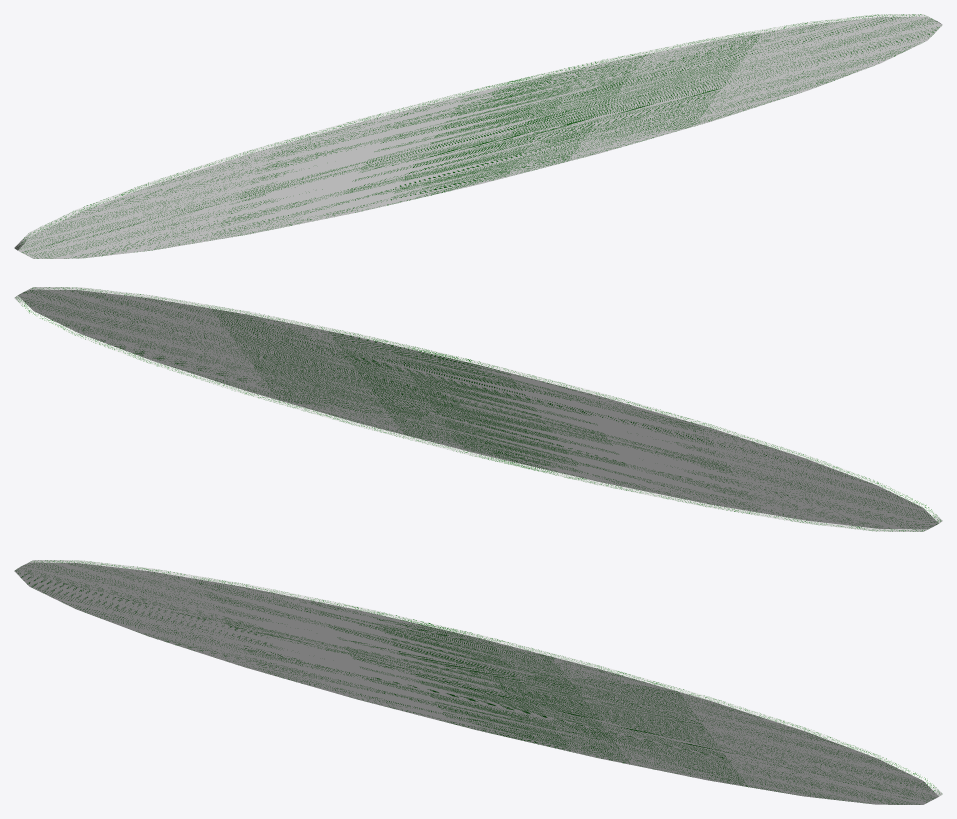
The model's file is original-23.obj.
3 views of the same model, one above another, from view 1: azimuth 30°, elevation 25°; view 2: azimuth 150°, elevation 25°; view 3: azimuth 330°, elevation 25° (orthographic).
Parts seen in each view (by area): view 1: mesh33/mesh33-geometry/material_3/component_1#mesh33-geometry; view 2: mesh33/mesh33-geometry/material_3/component_1#mesh33-geometry; view 3: mesh33/mesh33-geometry/material_3/component_1#mesh33-geometry.
Boxes of the visible parts, bbox=[...] form: mesh33/mesh33-geometry/material_3/component_1#mesh33-geometry: bbox=[14, 14, 942, 258]; mesh33/mesh33-geometry/material_3/component_1#mesh33-geometry: bbox=[14, 287, 942, 531]; mesh33/mesh33-geometry/material_3/component_1#mesh33-geometry: bbox=[14, 560, 942, 804].
Size of the model in its own units: 0.6981 by 0.0669 by 0.00483.
